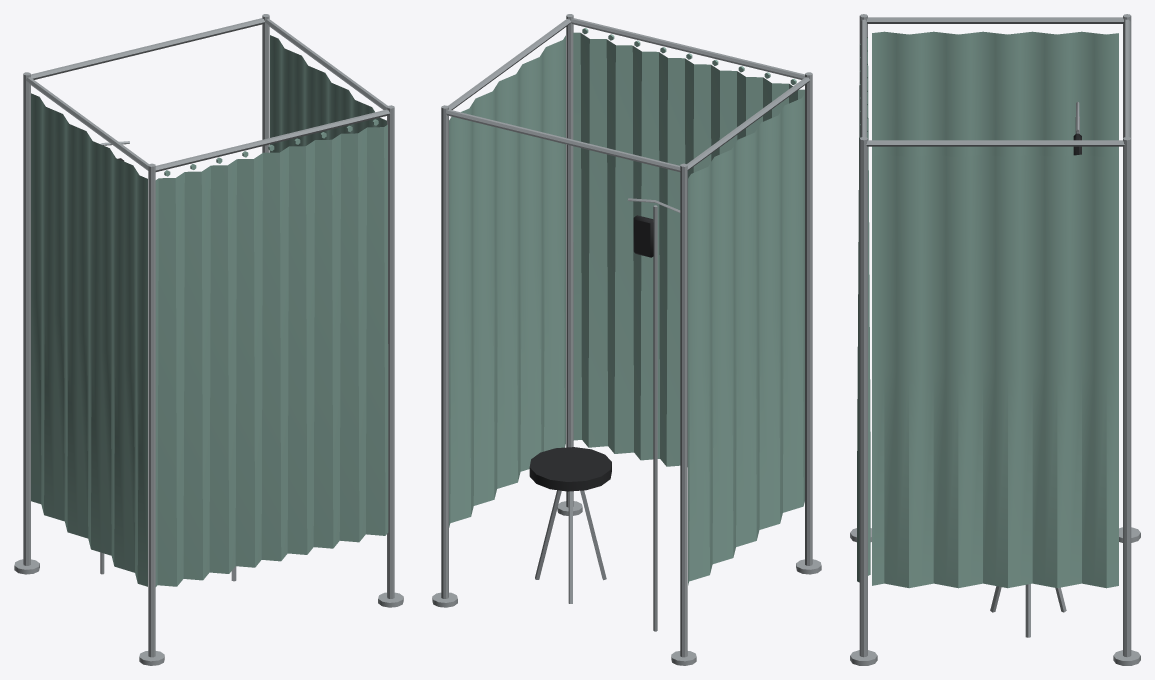
Rendered from curtain_booth.glb.
3 renders of one model, left to right at view 1: azimuth 30°, elevation 25°; view 2: azimuth 150°, elevation 25°; view 3: azimuth 270°, elevation 25°, orthographic. The views are drawn at different scales.
Visible parts, largest first — view 1: Door, BoothBody; view 2: BoothBody, Door; view 3: BoothBody, Door.
Boxes of the visible parts, bbox=[...] form: Door: bbox=[155, 119, 388, 586]; BoothBody: bbox=[14, 14, 403, 665]; BoothBody: bbox=[432, 14, 821, 665]; Door: bbox=[573, 28, 804, 466]; BoothBody: bbox=[850, 14, 1140, 665]; Door: bbox=[857, 37, 870, 582].
Bounding box in the file's own units: 1.16 × 2.1 × 1.06.
